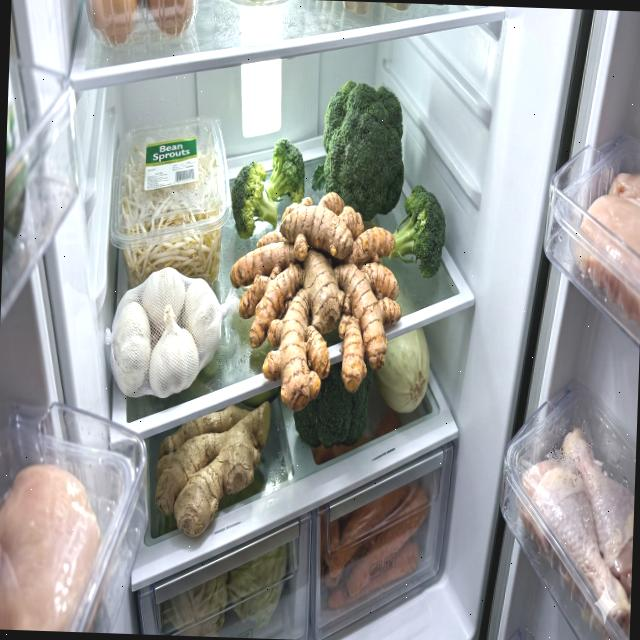bean_sprouts: (116, 128, 225, 292)
brocolli: (310, 78, 407, 223), (229, 134, 306, 242), (387, 183, 446, 279)
garlic: (110, 264, 223, 400)
ginger: (154, 396, 272, 540)
